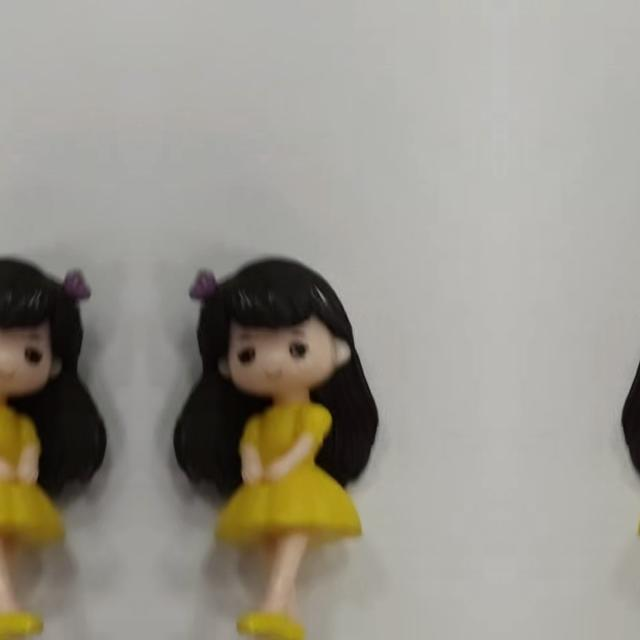woman dress: (217, 385, 360, 640), (0, 385, 62, 640), (639, 385, 640, 640)
woman head: (184, 246, 364, 400), (0, 246, 96, 400), (636, 246, 640, 400)
